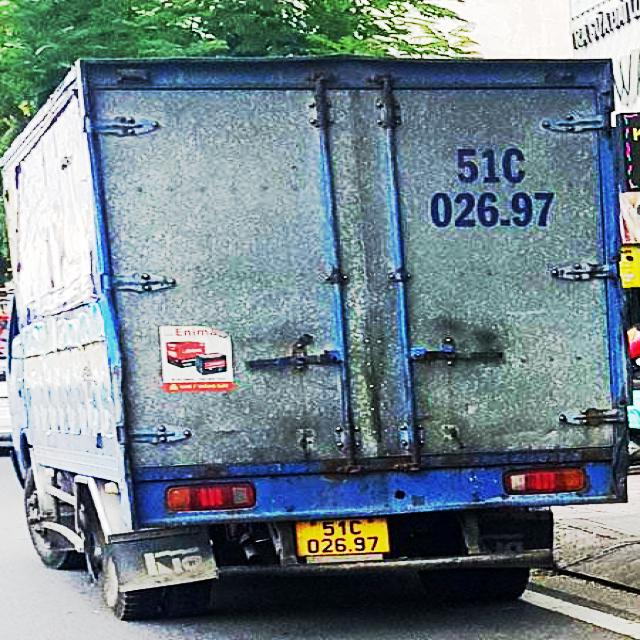license_plate: (296, 515, 394, 559)
